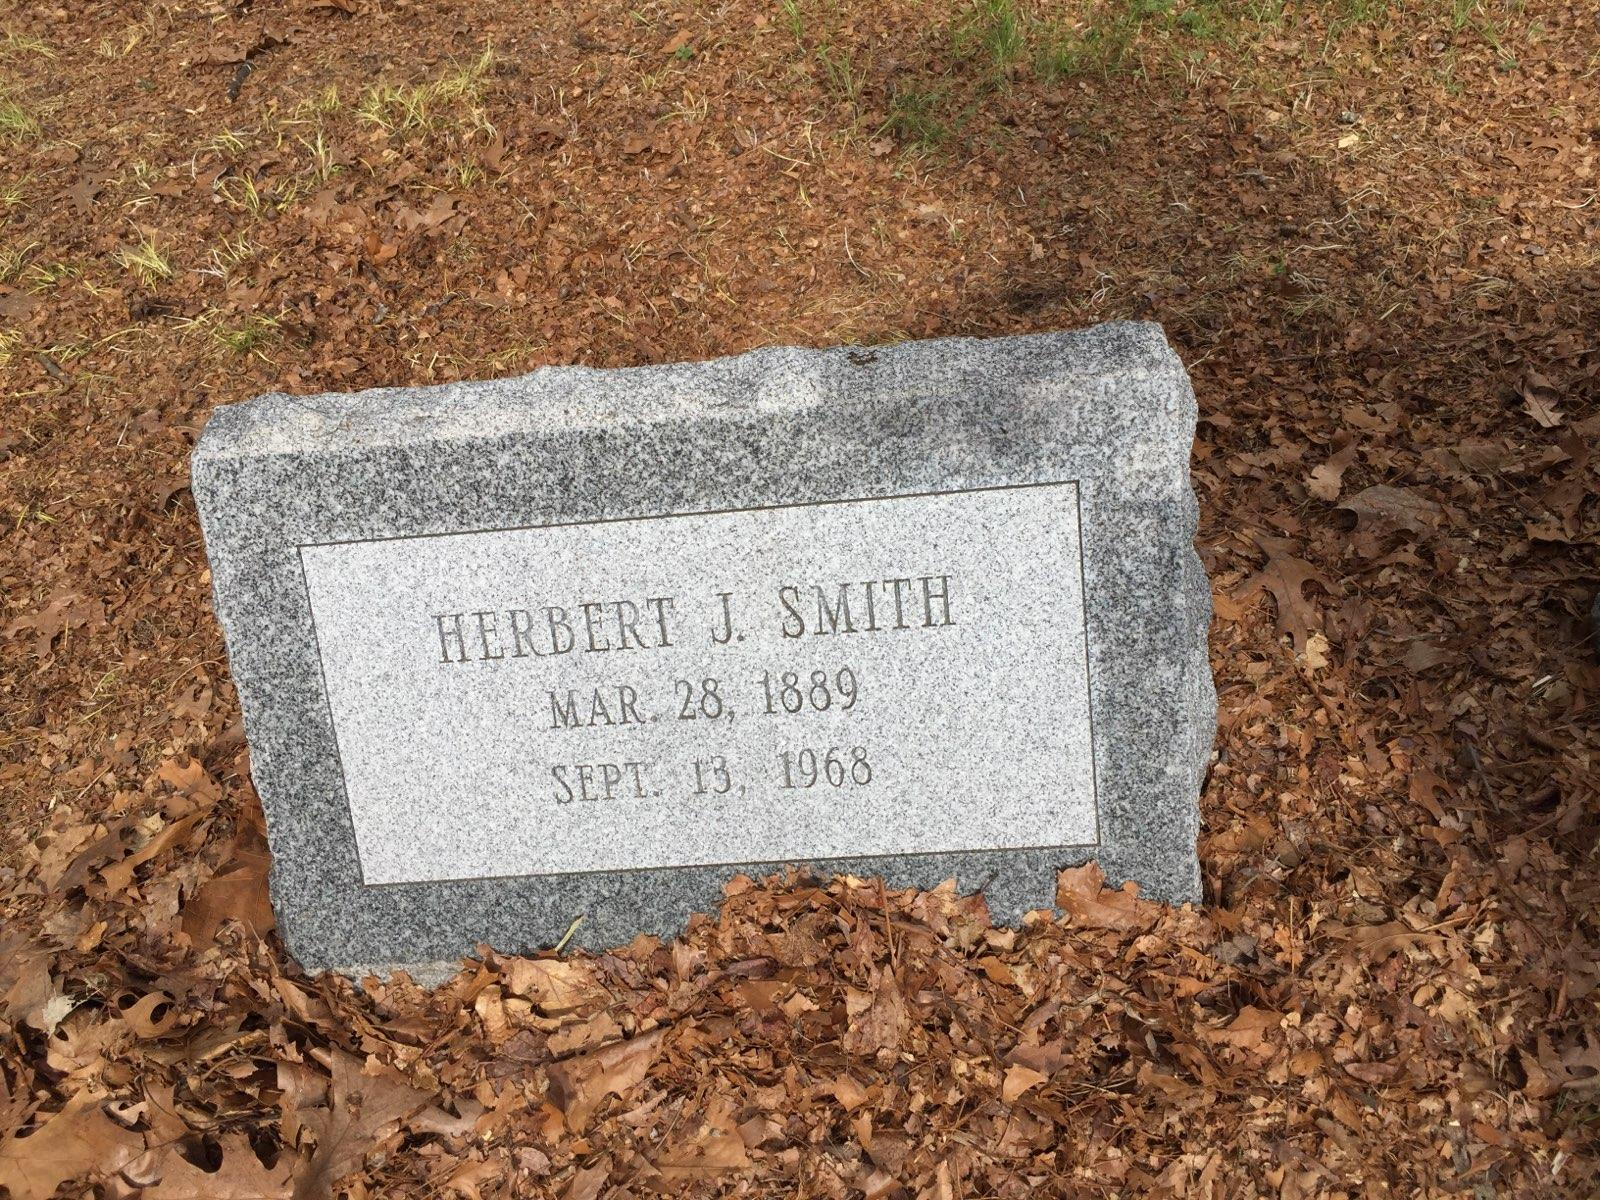slant: (186, 320, 1218, 938)
